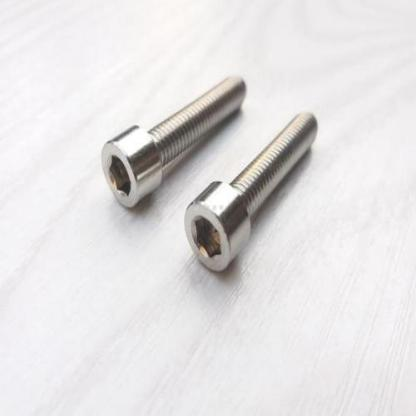FOD: (183, 110, 321, 272), (100, 72, 249, 210)
